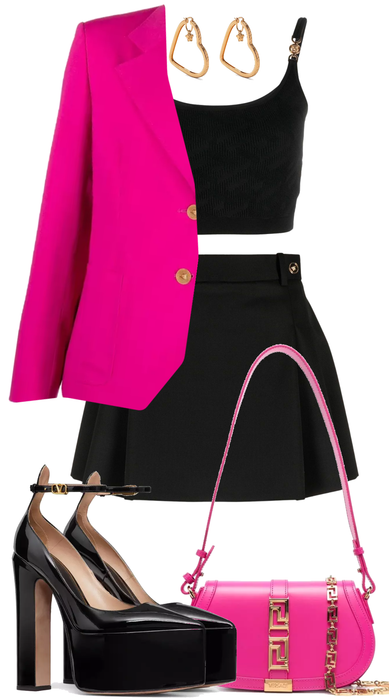аксесуары: (167, 14, 267, 83)
майка: (173, 15, 310, 237)
пиджак: (9, 4, 199, 410)
сумка: (188, 505, 389, 693)
туфли: (15, 467, 234, 697)
юбка: (70, 255, 360, 505)
